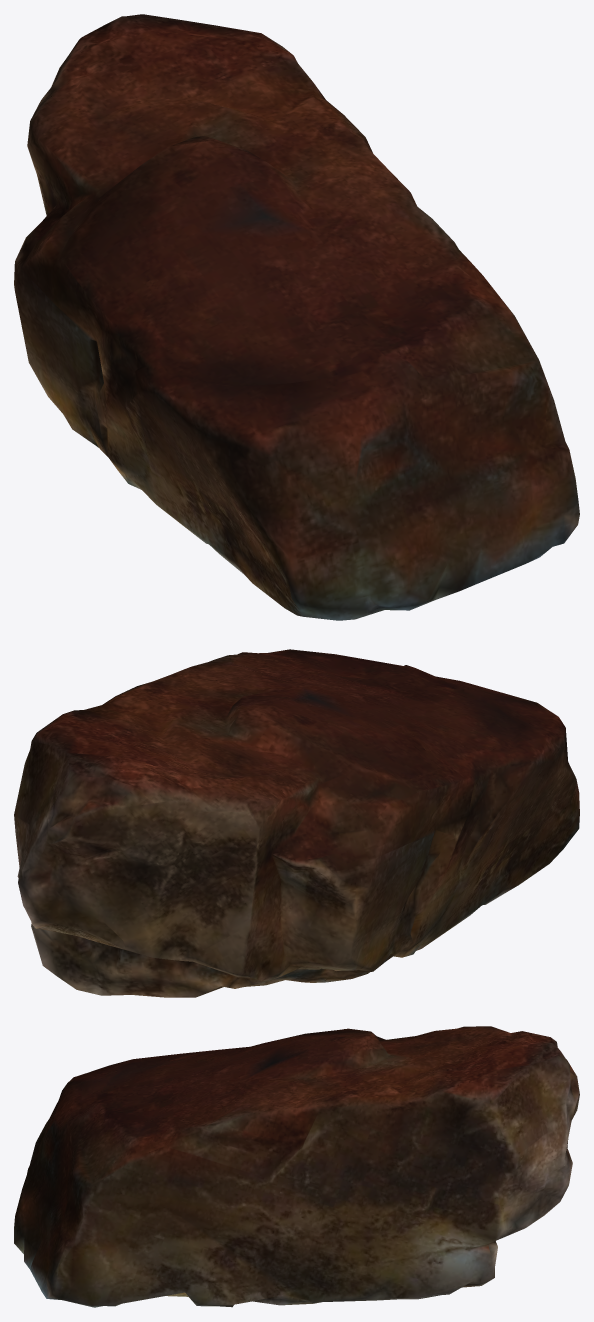
File: rock_a.glb
3 views of the same model, one above another, from view 1: azimuth 30°, elevation 25°; view 2: azimuth 150°, elevation 25°; view 3: azimuth 270°, elevation 25° (orthographic). The views are drawn at different scales.
Parts seen in each view (by area): view 1: rock_07; view 2: rock_07; view 3: rock_07.
Boxes of the visible parts, x1,y1,x2,y2 form: rock_07: (14, 14, 579, 620); rock_07: (14, 649, 579, 997); rock_07: (14, 1026, 579, 1307).
Bounding box in the file's own units: 0.1676 × 0.1434 × 0.3198.
1 material, 1 textured.
